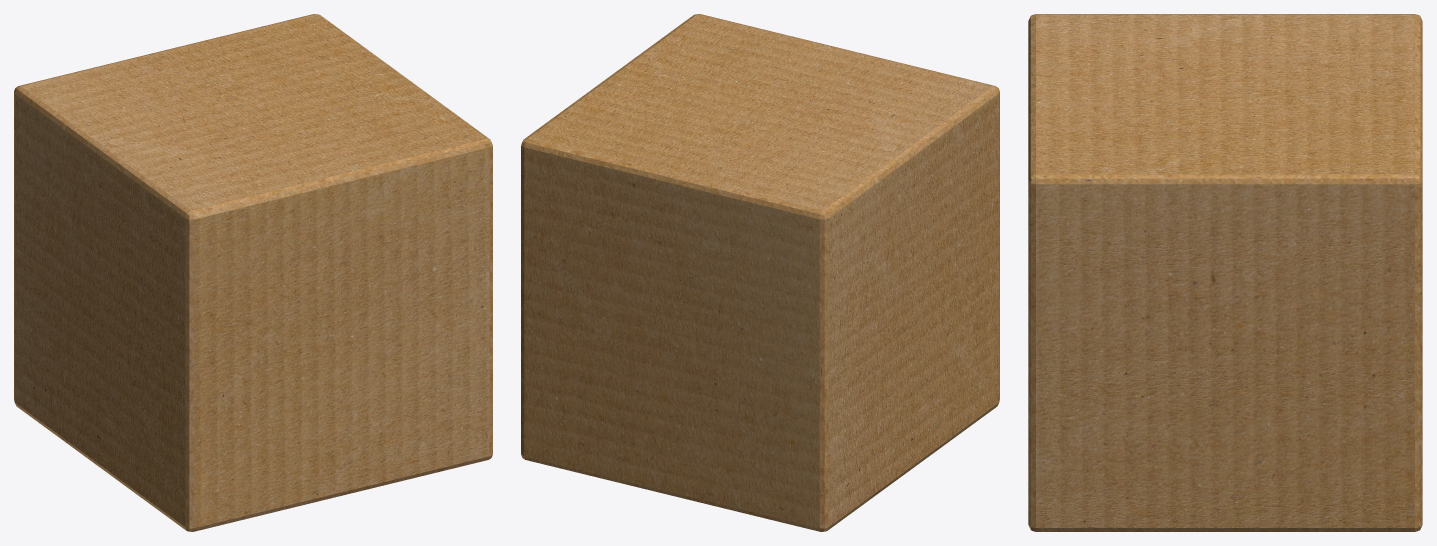
File: Cajadecarton.fbx
3 renders of one model, left to right at view 1: azimuth 30°, elevation 25°; view 2: azimuth 150°, elevation 25°; view 3: azimuth 270°, elevation 25°, orthographic. The views are drawn at different scales.
Visible parts, largest first — view 1: Cajas; view 2: Cajas; view 3: Cajas.
Boxes of the visible parts, <box> form: Cajas: <box>14,14,492,531</box>; Cajas: <box>521,14,999,531</box>; Cajas: <box>1028,14,1422,531</box>.
Size of the model in its own units: 200 by 200 by 200.
